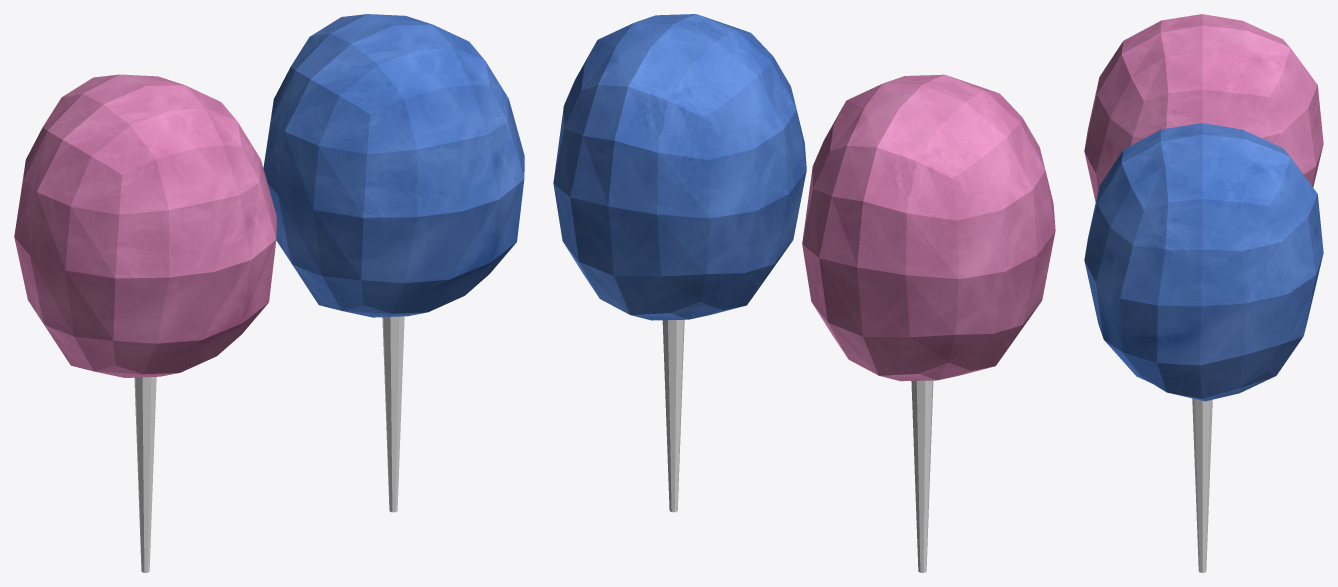
3 renders of one model, left to right at view 1: azimuth 30°, elevation 25°; view 2: azimuth 150°, elevation 25°; view 3: azimuth 270°, elevation 25°, orthographic. The views are drawn at different scales.
Visible parts, largest first — view 1: Node; view 2: Node; view 3: Node.
Part boxes in pixels (x1,y1,x2,y2): Node: [14, 14, 524, 572]; Node: [553, 14, 1055, 572]; Node: [1084, 14, 1323, 572].
Bounding box in the file's own units: 6.21 × 6.13 × 3.04.
Materials: 3 (2 with a texture image).
